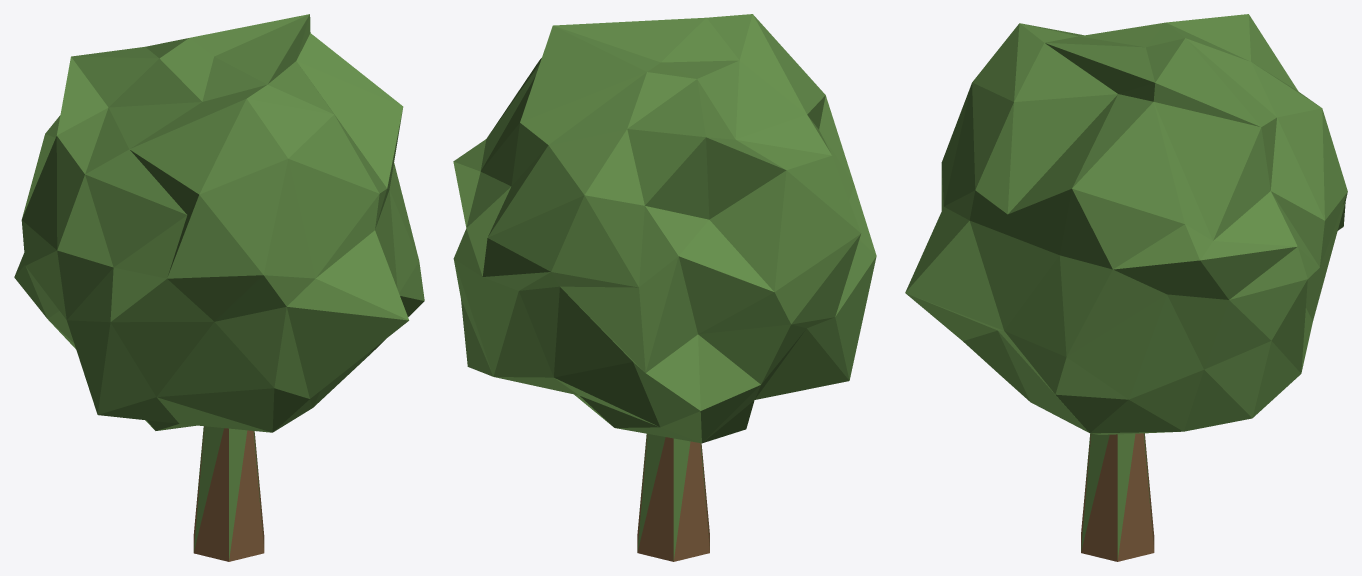
File: tree3d-099.glb
The picture shows the model from 3 angles, left to right: view 1: azimuth 30°, elevation 25°; view 2: azimuth 150°, elevation 25°; view 3: azimuth 270°, elevation 25°; orthographic projection. The views are drawn at different scales.
Parts seen in each view (by area): view 1: tree3d-099; view 2: tree3d-099; view 3: tree3d-099.
Boxes of the visible parts, x1,y1,x2,y2 form: tree3d-099: [14, 14, 424, 561]; tree3d-099: [453, 14, 876, 561]; tree3d-099: [905, 14, 1347, 561].
Bounding box in the file's own units: 0.7456 × 1 × 0.7846.
